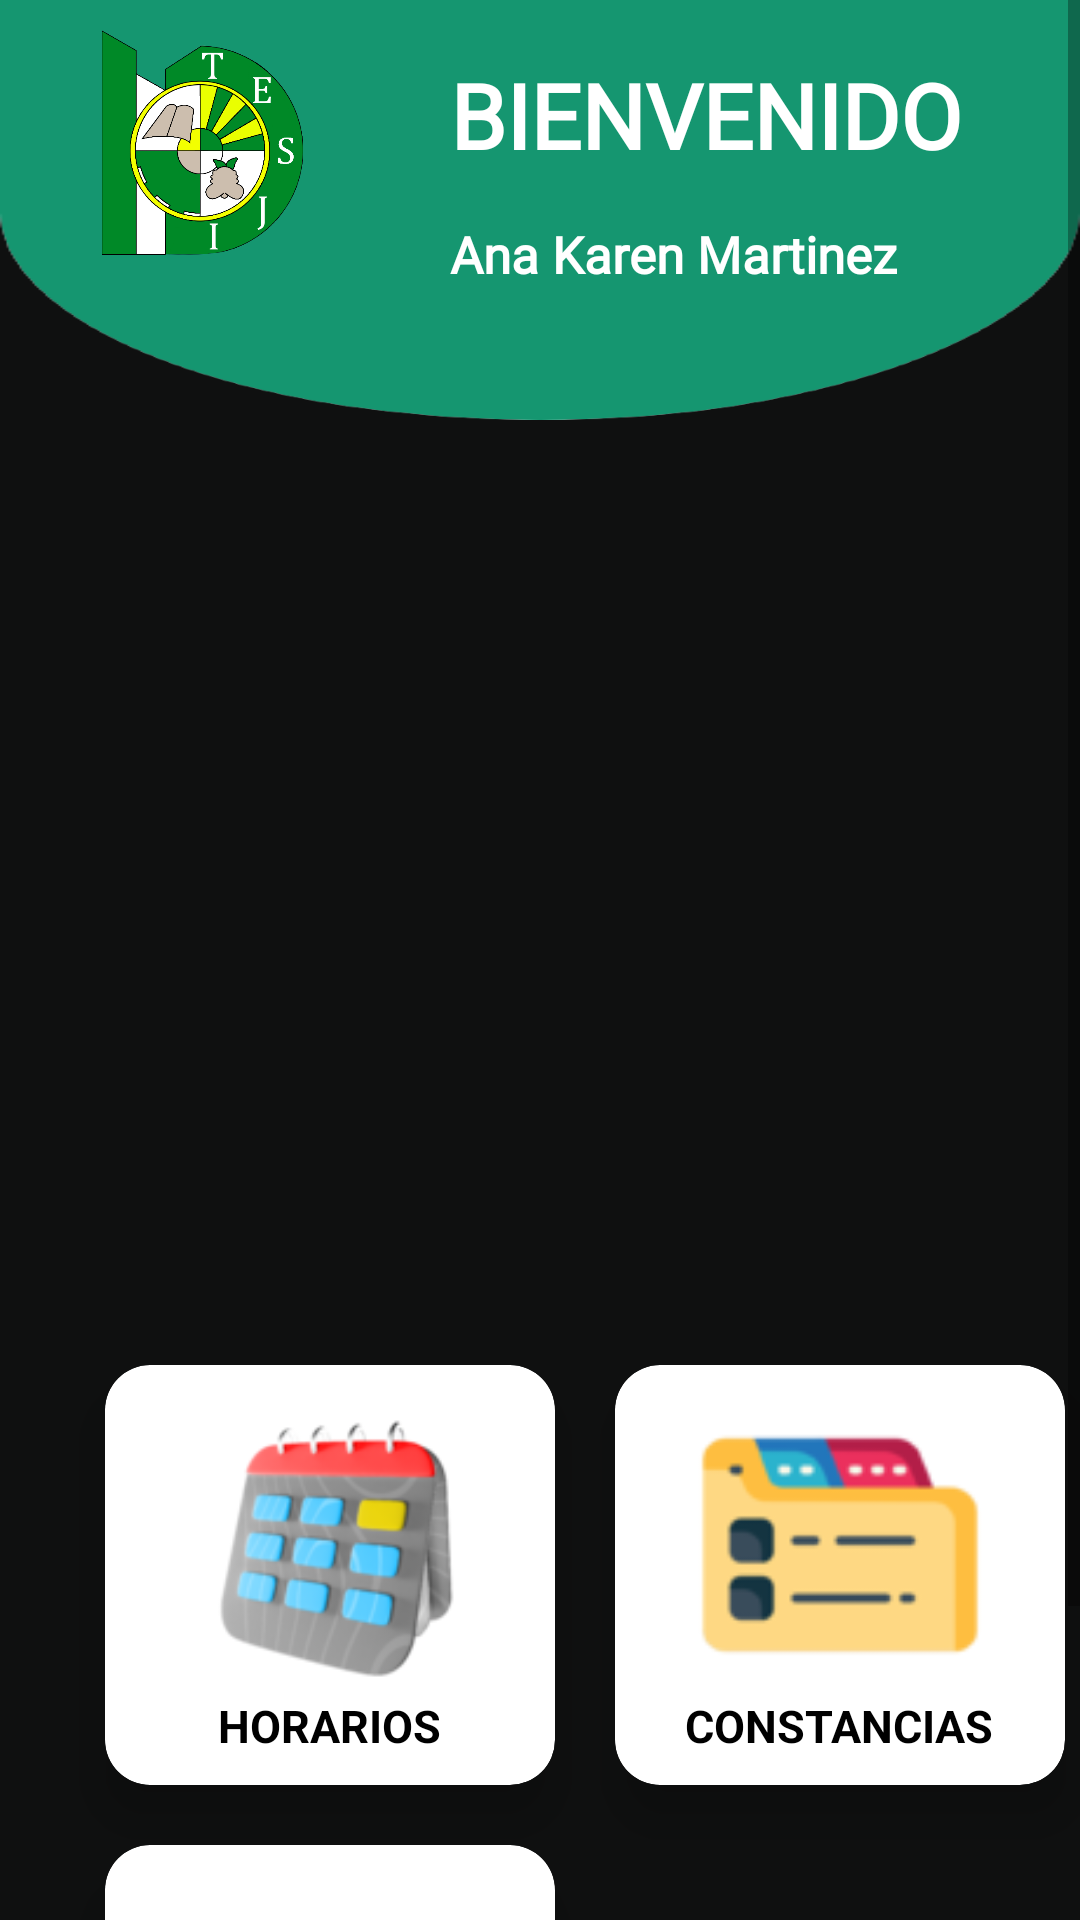

Named icons in this screenshot (1080x1920) and their bounding boxes, {"x1": x1, "y1": y1, "x2": x2, "y2": y2}:
calendar: {"x1": 221, "y1": 1421, "x2": 453, "y2": 1676}
file: {"x1": 701, "y1": 1436, "x2": 979, "y2": 1653}
